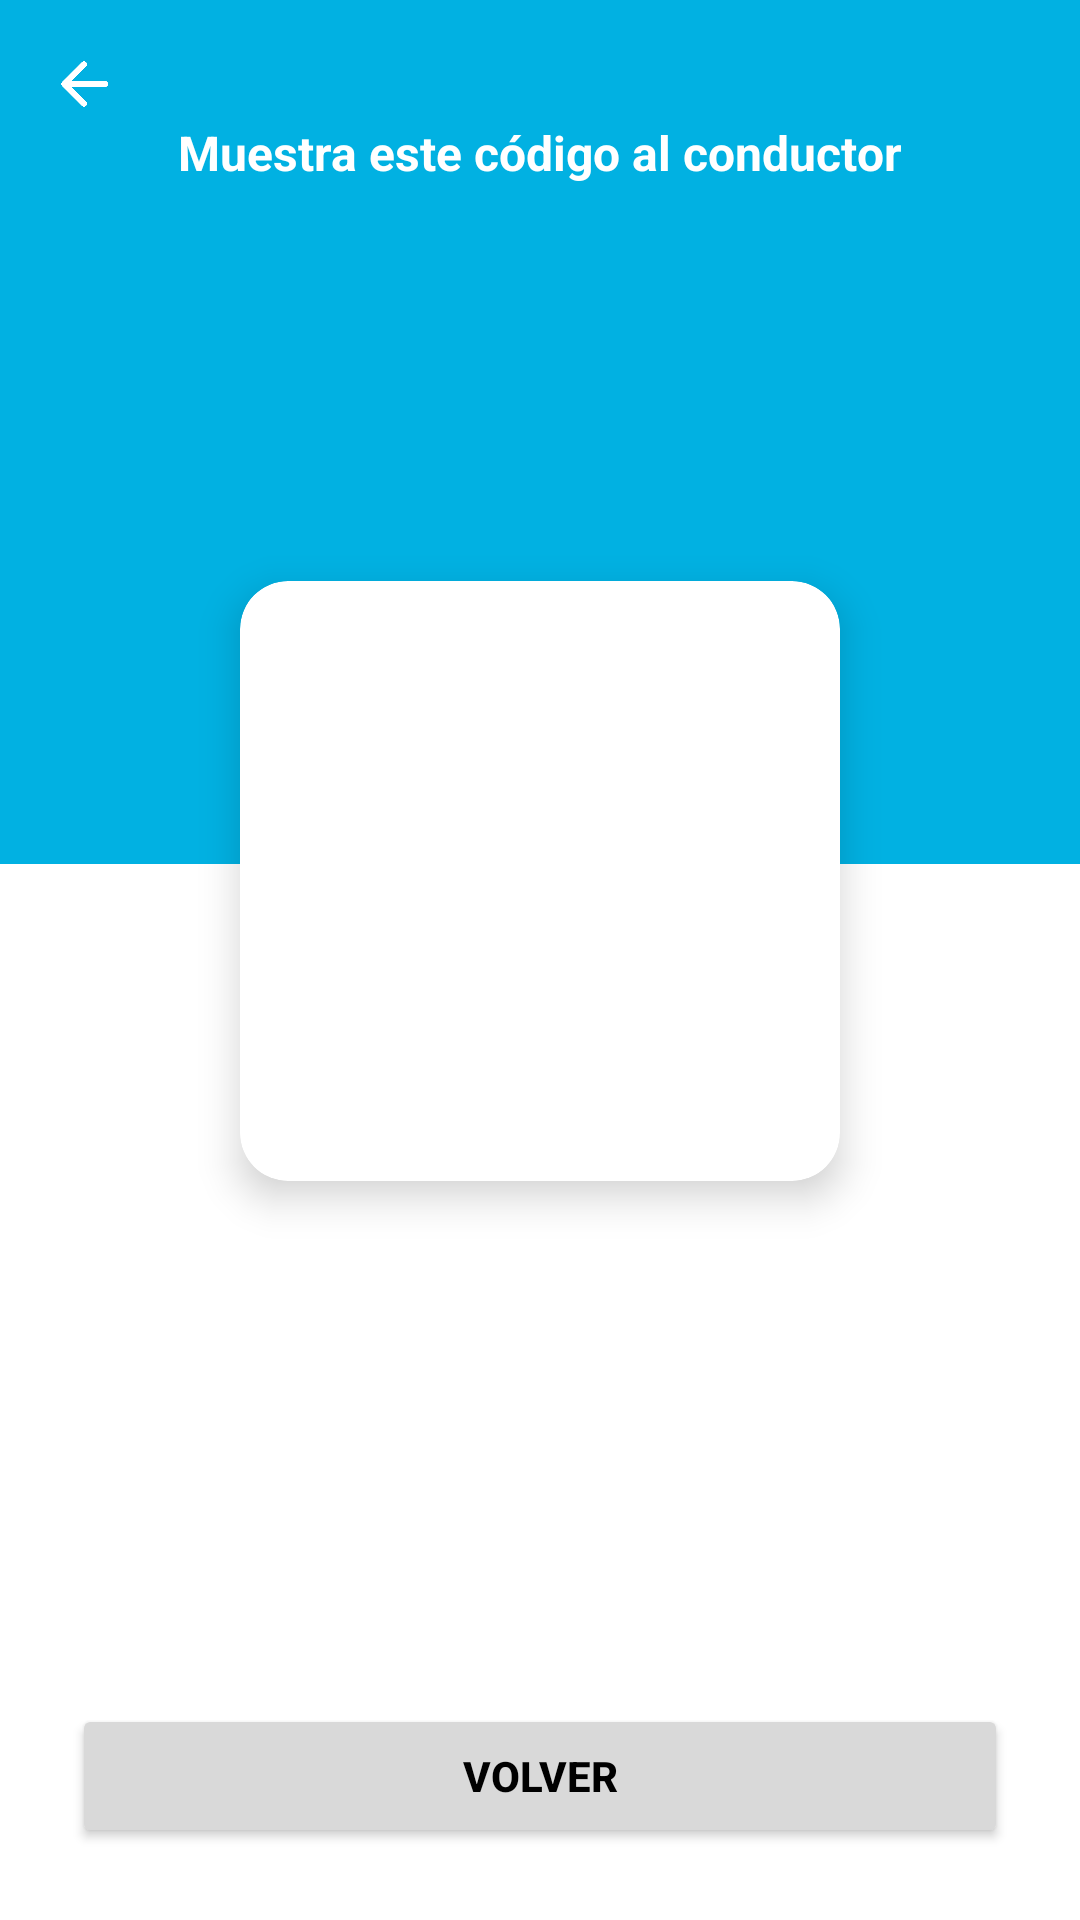

Locate icon controls on the screen. Image size 1080w x 1920h, boxes as (x1, y1, x2, y2).
Volver: (61, 61, 108, 107)
